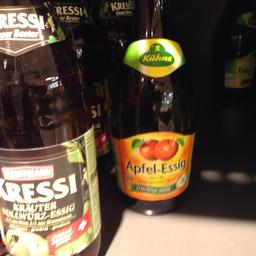vinegar: (0, 0, 99, 255), (111, 0, 201, 215)
